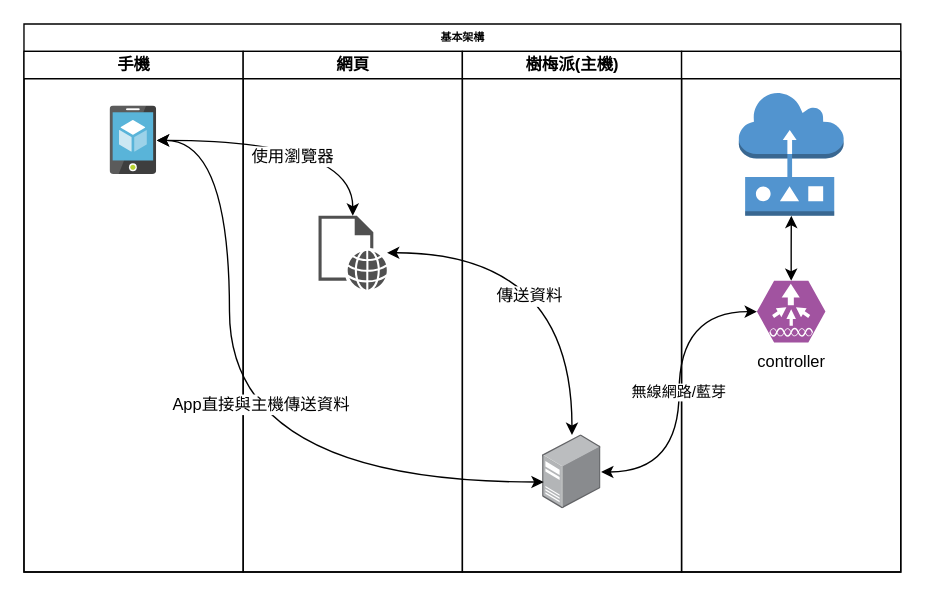
Image size: 925x596. Some labels were removed from this diagram. The shapes that lost their labels are listed below. From the top down, each one's box as (x1, y1, x2, y2) in pixels, then its label:
(737, 91, 844, 216): sensor
(680, 50, 901, 572): 控制板+傳感器
